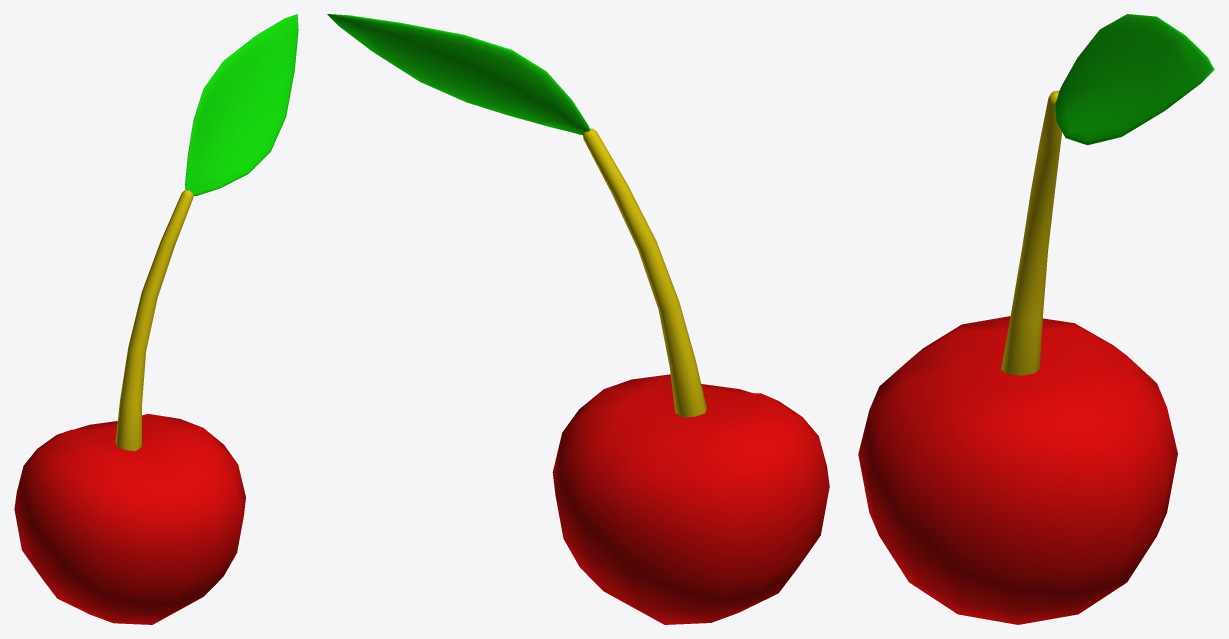
Rendered from SM_Cherry.fbx.
The picture shows the model from 3 angles, left to right: view 1: azimuth 30°, elevation 25°; view 2: azimuth 150°, elevation 25°; view 3: azimuth 270°, elevation 25°; orthographic projection. The views are drawn at different scales.
Parts seen in each view (by area): view 1: cherry; view 2: cherry; view 3: cherry.
Boxes of the visible parts, left/top/right/bottom form: cherry: left=14, top=14, right=298, bottom=624; cherry: left=327, top=14, right=829, bottom=624; cherry: left=858, top=14, right=1214, bottom=624.
Size of the model in its own units: 0.6219 by 0.8749 by 0.3982.
